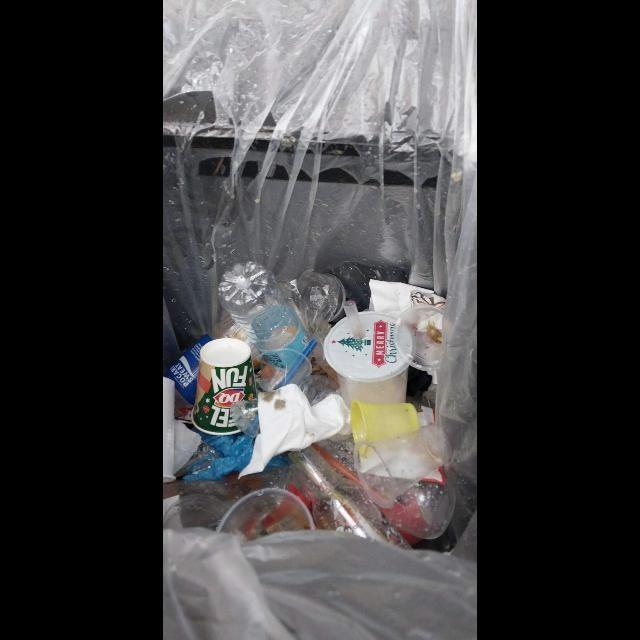cardboard: (191, 338, 259, 437)
paper: (238, 384, 352, 479)
plastic_bottle: (301, 435, 456, 545), (288, 446, 413, 550), (218, 262, 317, 371)
